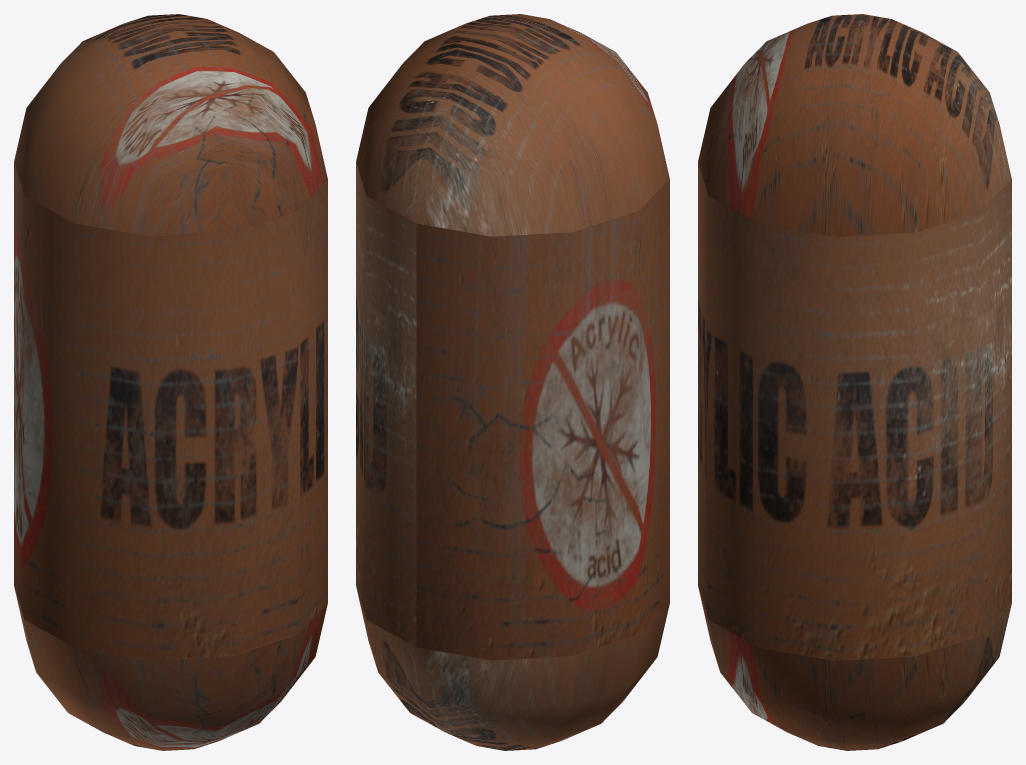
The model's file is acid tank.fbx.
3 views of the same model, side by side, from view 1: azimuth 30°, elevation 25°; view 2: azimuth 150°, elevation 25°; view 3: azimuth 270°, elevation 25° (orthographic).
Visible parts, largest first — view 1: acid tank; view 2: acid tank; view 3: acid tank.
Part boxes in pixels (<box>): acid tank: <box>14,14,327,750</box>; acid tank: <box>356,14,669,750</box>; acid tank: <box>698,14,1011,750</box>.
Size of the model in its own units: 438 by 1091 by 438.
Materials: 1 (1 with a texture image).
